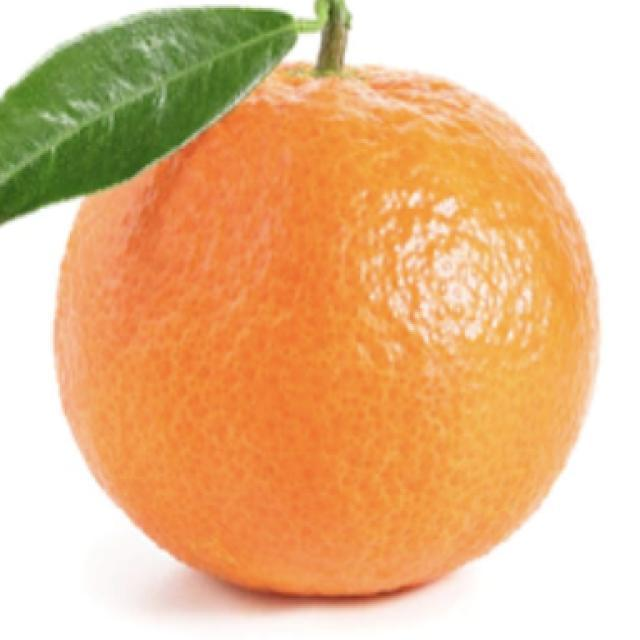Orange: (51, 54, 601, 600)
